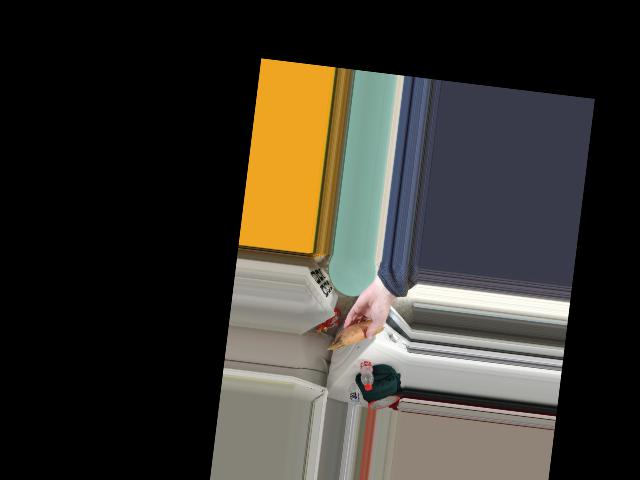sweet_potato: (343, 314, 379, 347)
